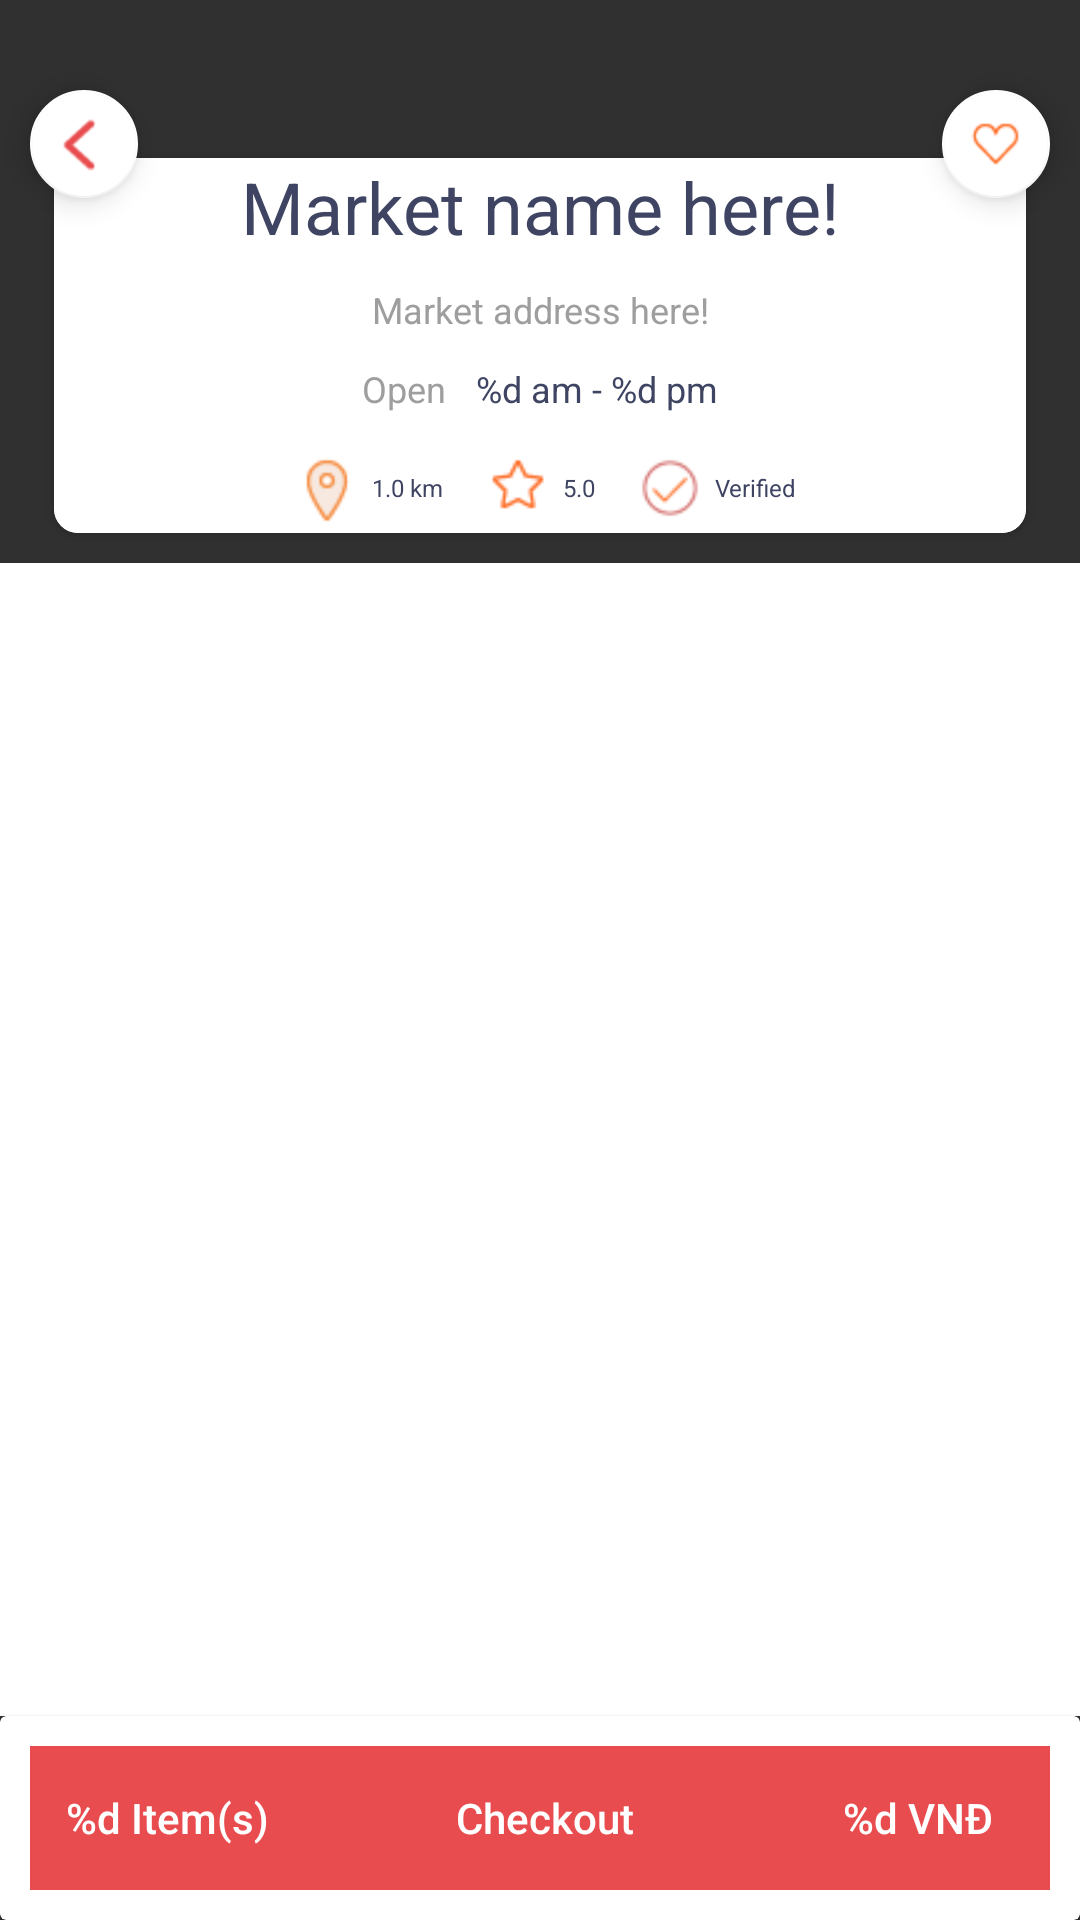

Screen size 1080px×1920px. Icon name, then its center in pixels as [x,y]:
back: [84,144]
heart: [996,144]
location: [327,490]
star: [518,484]
